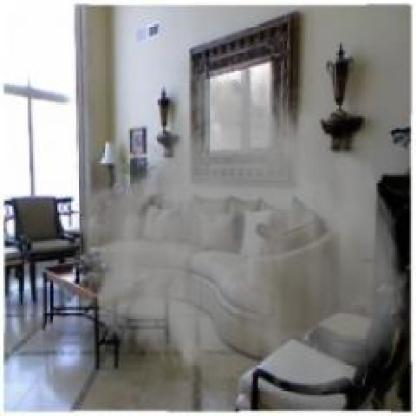Smoke: (71, 53, 414, 401)
